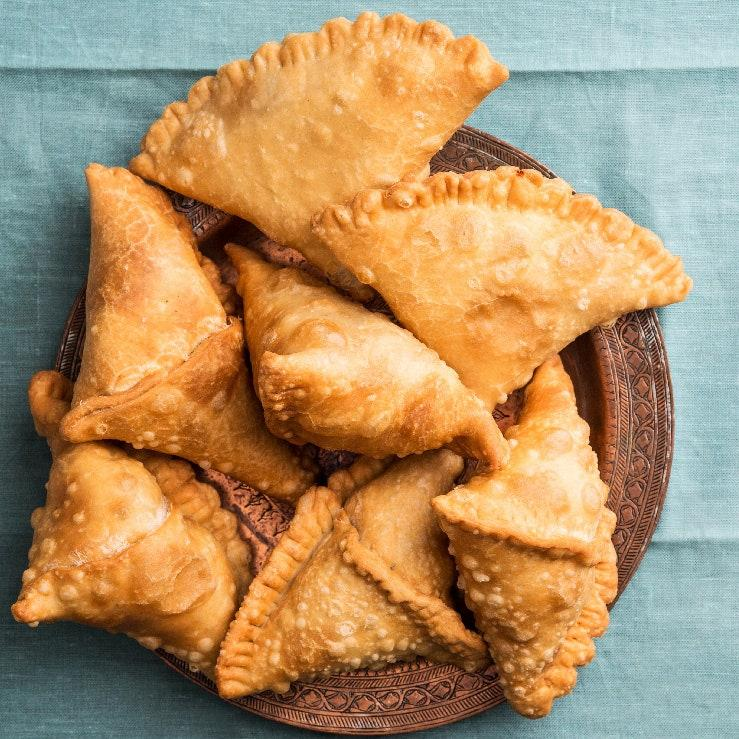samosa: (133, 13, 508, 292), (315, 167, 691, 408), (217, 450, 488, 697), (432, 357, 613, 717), (227, 244, 508, 465), (12, 443, 237, 675), (74, 163, 227, 403), (23, 443, 170, 584)
